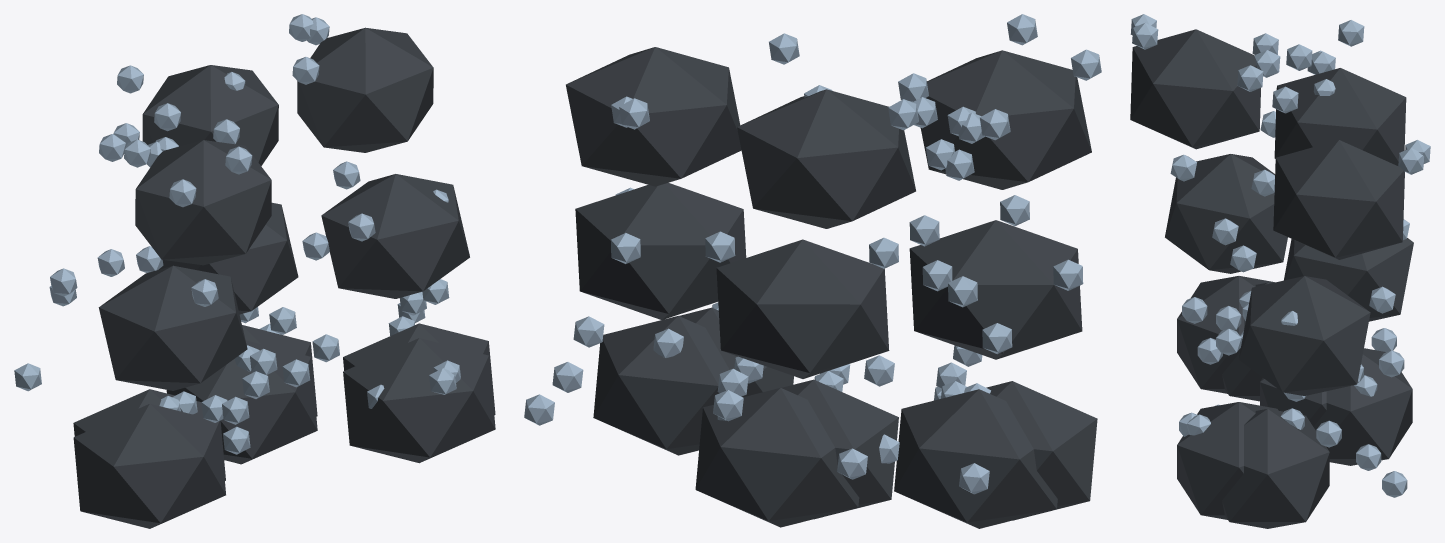
The model's file is Ore_Titanium.fbx.
3 views of the same model, side by side, from view 1: azimuth 30°, elevation 25°; view 2: azimuth 150°, elevation 25°; view 3: azimuth 270°, elevation 25° (orthographic). The views are drawn at different scales.
Visible parts, largest first — view 1: Ore_Titanium__Stack, Ore_Titanium; view 2: Ore_Titanium__Stack, Ore_Titanium; view 3: Ore_Titanium__Stack, Ore_Titanium.
Part boxes in pixels (x1,y1,x2,y2): Ore_Titanium__Stack: (14,14,495,480); Ore_Titanium: (73,279,495,528); Ore_Titanium__Stack: (524,14,1101,528); Ore_Titanium: (573,302,1097,520); Ore_Titanium__Stack: (1130,14,1430,528); Ore_Titanium: (1177,276,1377,519).
Size of the model in its own units: 0.1451 by 0.1313 by 0.0906.
